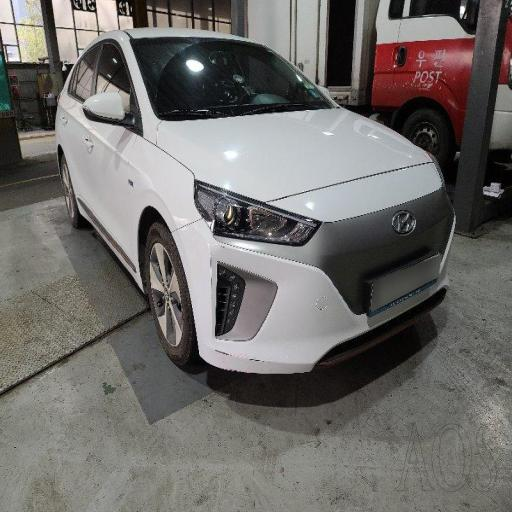scratch: (170, 208, 294, 380)
